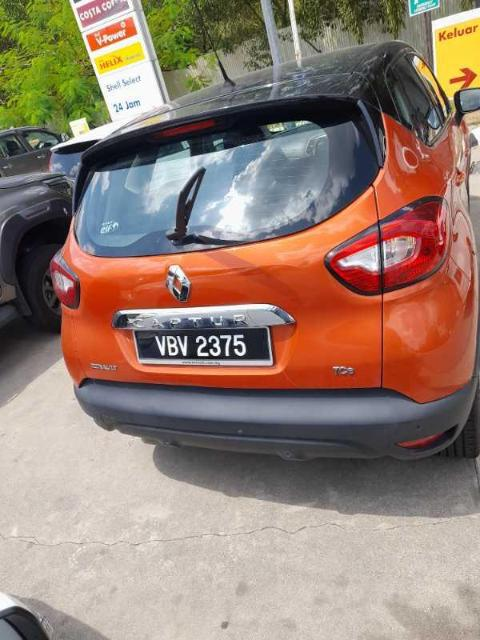License_Plate: (134, 327, 275, 368)
car: (48, 39, 480, 463)
